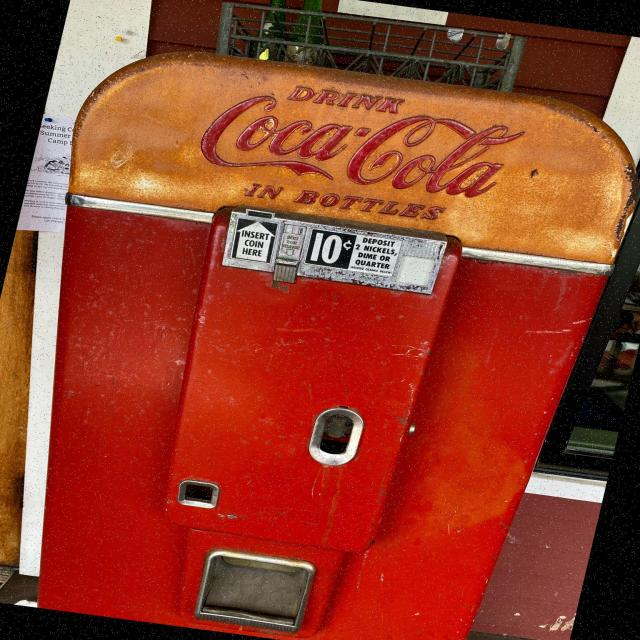coca-cola: (182, 72, 540, 214)
